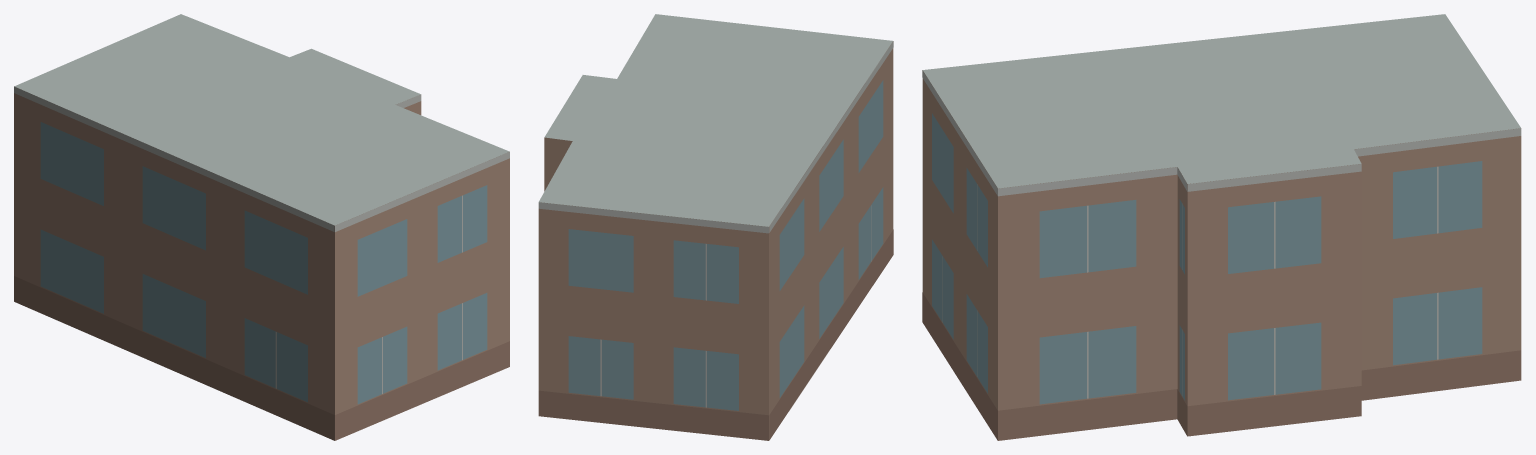
File: survey-upis-32755751.glb
3 renders of one model, left to right at view 1: azimuth 30°, elevation 25°; view 2: azimuth 150°, elevation 25°; view 3: azimuth 270°, elevation 25°, orthographic. The views are drawn at different scales.
Parts seen in each view (by area): view 1: survey-upis-32755751.tmp; view 2: survey-upis-32755751.tmp; view 3: survey-upis-32755751.tmp.
Boxes of the visible parts, x1,y1,x2,y2 form: survey-upis-32755751.tmp: (14, 14, 509, 440); survey-upis-32755751.tmp: (538, 14, 893, 440); survey-upis-32755751.tmp: (922, 14, 1521, 440).
Size of the model in its own units: 11.73 by 7.9 by 17.
